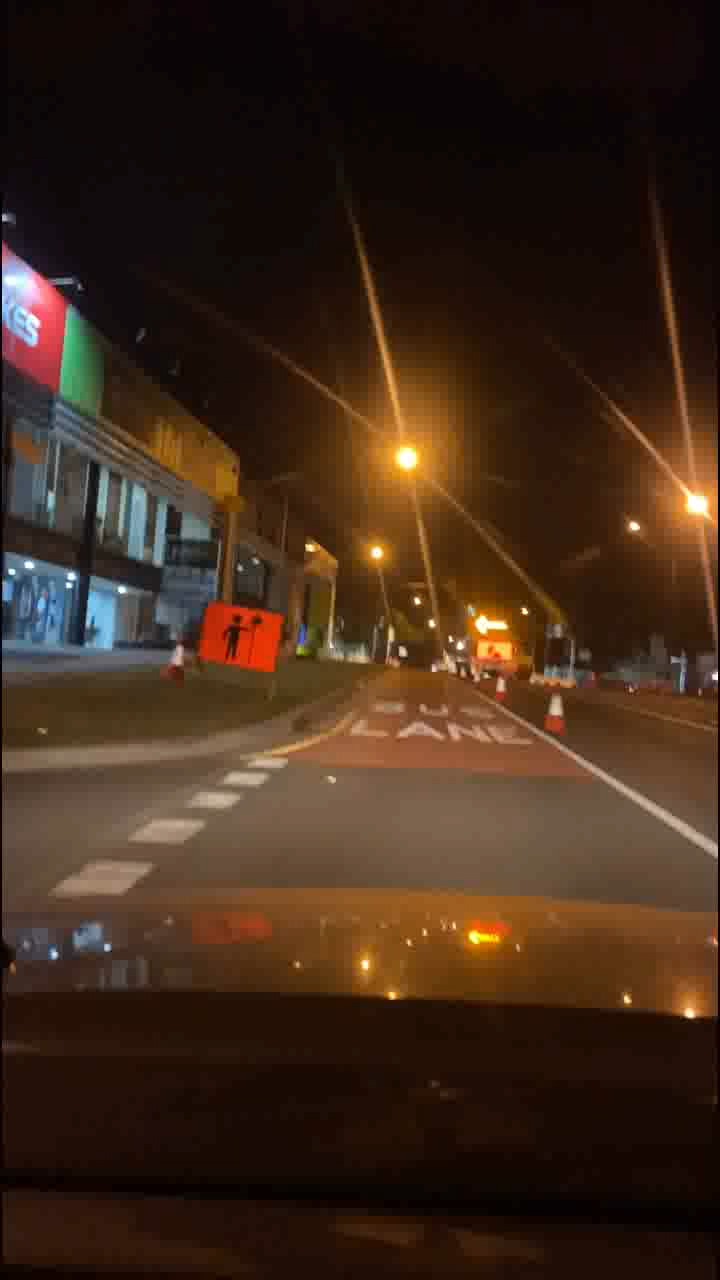prepare to stop board: (200, 596, 285, 686)
road cone: (535, 682, 568, 744), (487, 661, 520, 723)
truck: (441, 600, 554, 677)
